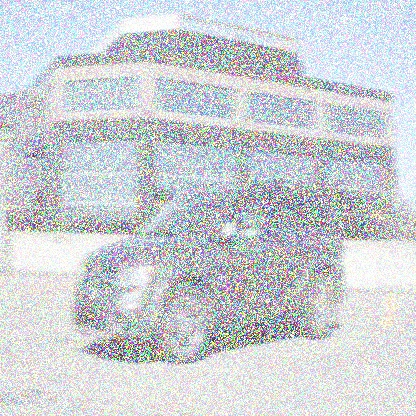Vehicle: (72, 185, 344, 366)
